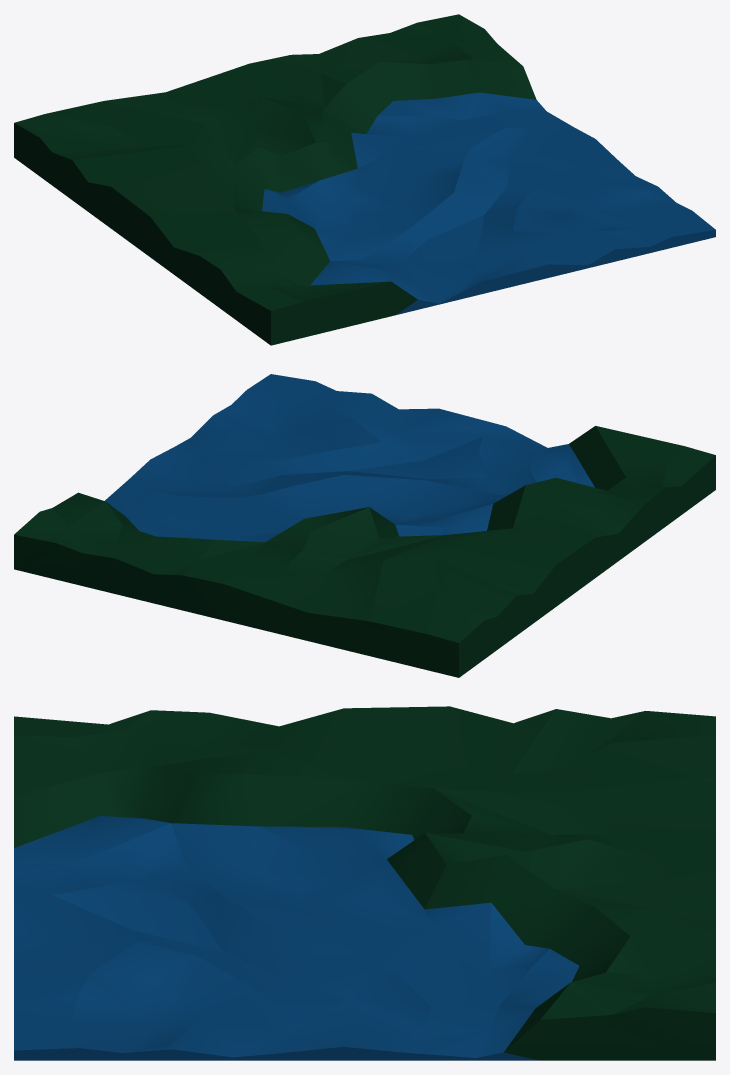
Rendered from Water_Round_LU.fbx.
3 views of the same model, one above another, from view 1: azimuth 30°, elevation 25°; view 2: azimuth 150°, elevation 25°; view 3: azimuth 270°, elevation 25° (orthographic). The views are drawn at different scales.
Parts seen in each view (by area): view 1: Water_Round_LU; view 2: Water_Round_LU; view 3: Water_Round_LU.
Part boxes in pixels (box(x1,y1,x2,y2)): Water_Round_LU: box(14, 14, 715, 345); Water_Round_LU: box(14, 374, 715, 677); Water_Round_LU: box(14, 706, 715, 1060).
Bounding box in the file's own units: 147 × 14.69 × 147.
